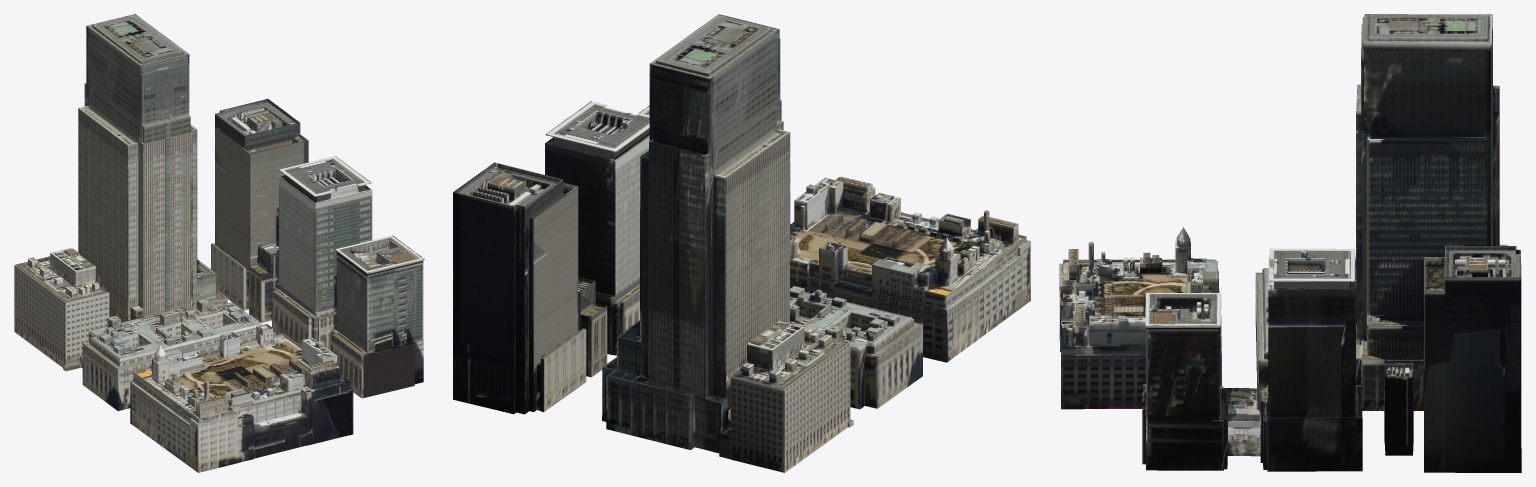
Rendered from BuildingMesh_PTL.fbx.
3 renders of one model, left to right at view 1: azimuth 30°, elevation 25°; view 2: azimuth 150°, elevation 25°; view 3: azimuth 270°, elevation 25°, orthographic. The views are drawn at different scales.
Parts seen in each view (by area): view 1: Buildings; view 2: Buildings; view 3: Buildings, Map.
Boxes of the visible parts, box(x1,y1,x2,y2) form: Buildings: box(14, 14, 424, 472); Buildings: box(453, 14, 1030, 472); Buildings: box(1059, 14, 1521, 472); Map: box(1223, 388, 1260, 456).
Bounding box in the file's own units: 1824 × 1942 × 2329.
9 materials, 9 textured.
